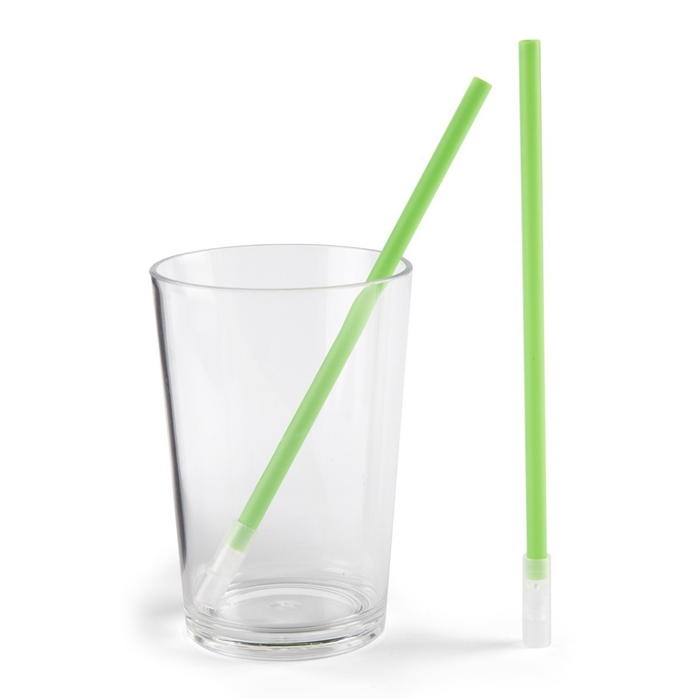Drinking Straw: (513, 34, 563, 653)
